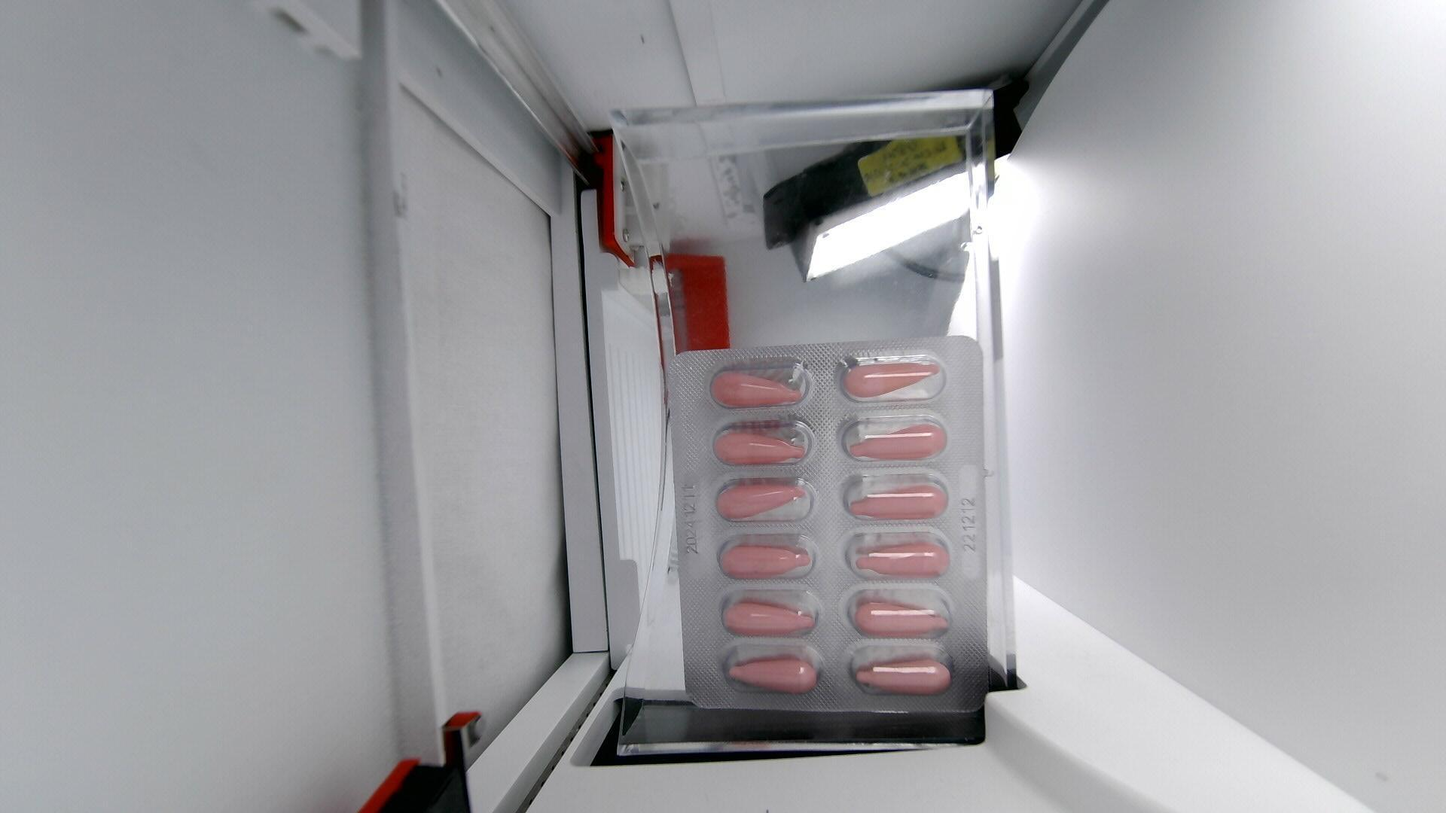Light Front: (669, 336, 989, 714)
Pill Front: (851, 644, 970, 696), (847, 586, 952, 638), (840, 350, 947, 401), (709, 358, 810, 409), (847, 531, 951, 579), (843, 473, 950, 519), (843, 415, 948, 460), (727, 644, 821, 694), (713, 419, 812, 464), (719, 534, 814, 579), (717, 479, 812, 522), (724, 598, 816, 636)
